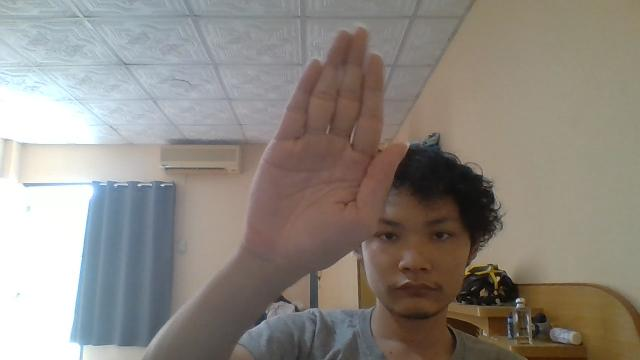Stop: (242, 26, 410, 278)
